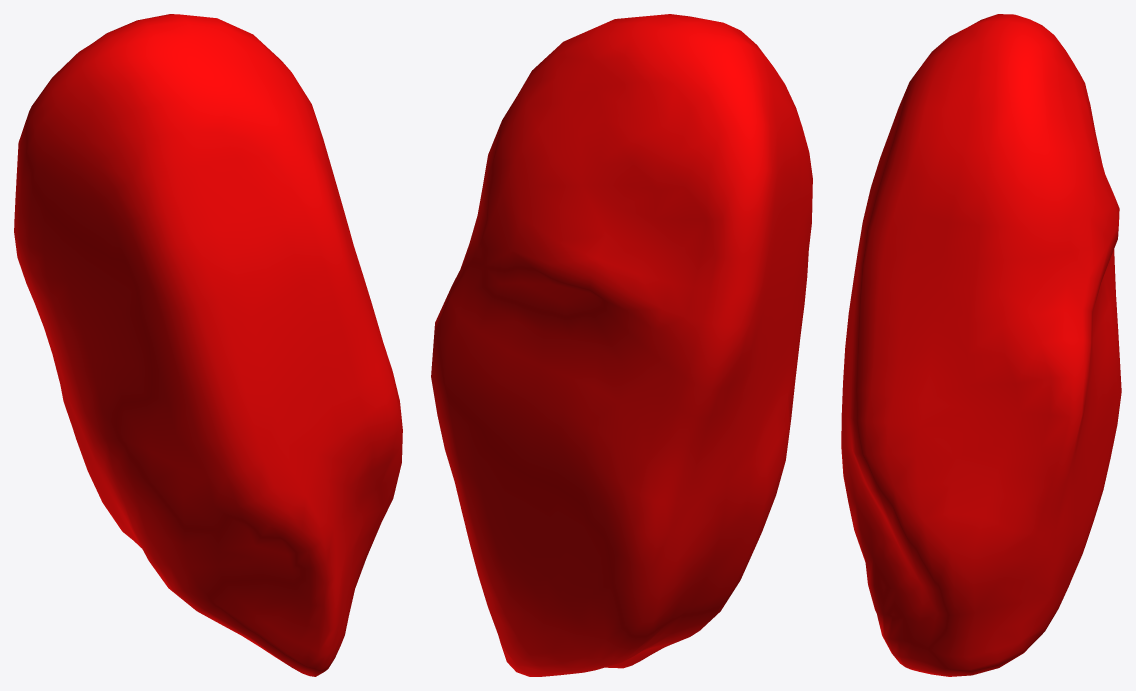
File: V_crystal_lo.fbx
3 views of the same model, side by side, from view 1: azimuth 30°, elevation 25°; view 2: azimuth 150°, elevation 25°; view 3: azimuth 270°, elevation 25° (orthographic). The views are drawn at different scales.
Parts seen in each view (by area): view 1: Vcrystal_lo; view 2: Vcrystal_lo; view 3: Vcrystal_lo.
Part boxes in pixels (left/top/right/bottom): Vcrystal_lo: left=14, top=14, right=402, bottom=676; Vcrystal_lo: left=431, top=14, right=812, bottom=676; Vcrystal_lo: left=841, top=14, right=1121, bottom=676.
Bounding box in the file's own units: 1.52 × 3.05 × 1.31.
